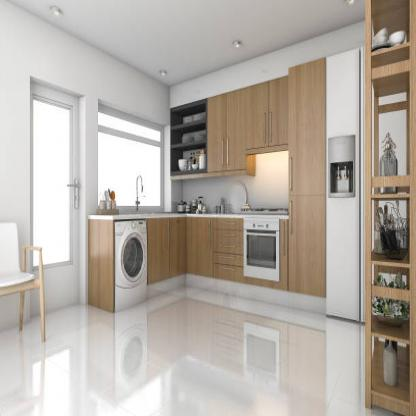Cabinet: (147, 217, 288, 290), (209, 76, 289, 173)
Window: (97, 106, 165, 210)
